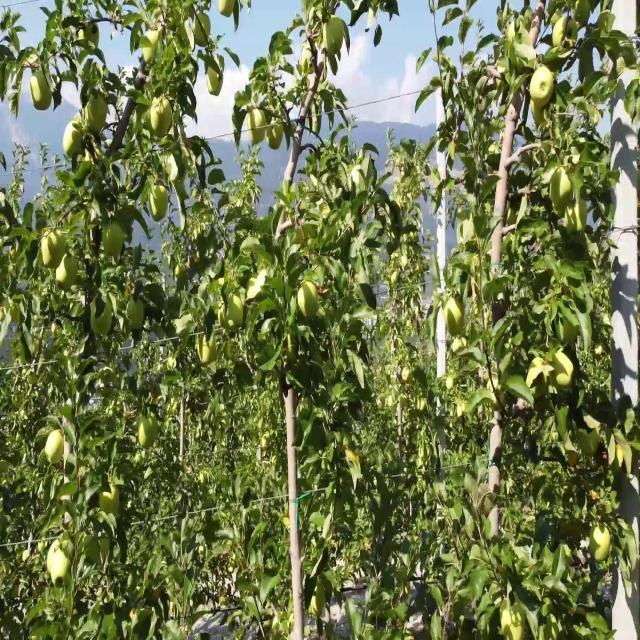apple: (529, 63, 554, 108), (562, 195, 588, 235), (296, 278, 320, 321), (550, 167, 572, 213), (85, 93, 108, 136), (443, 293, 466, 335), (322, 13, 345, 55), (40, 230, 64, 270), (54, 252, 78, 292), (552, 350, 576, 390), (500, 601, 525, 639), (90, 293, 112, 336), (150, 96, 172, 136), (588, 522, 610, 560), (102, 222, 124, 260), (62, 122, 83, 160), (76, 20, 100, 53), (225, 292, 245, 331), (30, 69, 51, 106), (30, 76, 52, 111), (46, 547, 68, 581), (137, 413, 158, 448), (578, 424, 600, 457), (149, 184, 168, 222), (192, 10, 211, 47), (45, 428, 65, 463), (140, 27, 159, 63), (99, 482, 119, 516), (59, 251, 78, 286), (125, 297, 145, 330), (197, 332, 217, 364), (265, 118, 284, 150), (551, 13, 567, 49), (528, 98, 548, 126), (206, 64, 223, 96), (247, 105, 266, 132), (248, 115, 266, 143), (204, 52, 222, 76), (249, 123, 266, 144), (217, 0, 234, 17), (174, 261, 187, 281), (51, 87, 62, 108), (9, 302, 20, 322), (567, 448, 578, 467), (52, 575, 66, 589), (0, 303, 6, 321)
